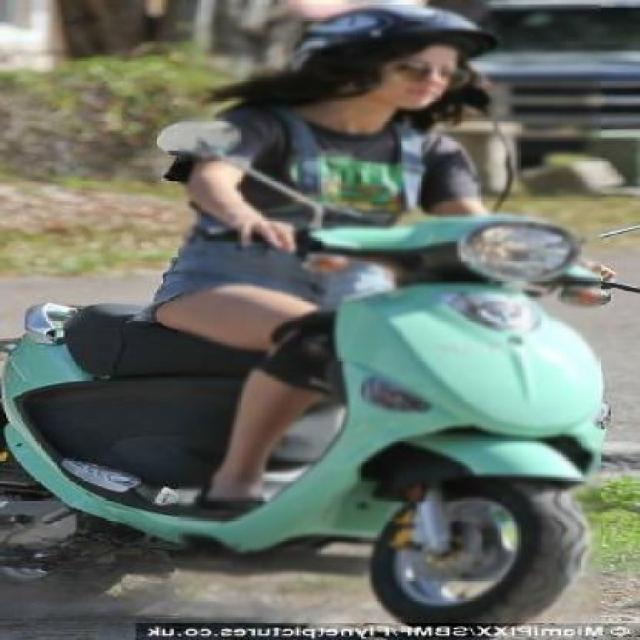helmet: (274, 0, 509, 139)
motorcycle: (0, 0, 621, 640)
